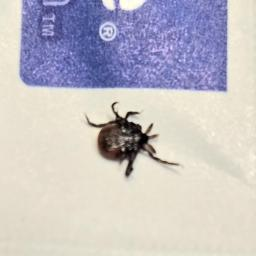Ixodes scapularis: (81, 110, 183, 178)
